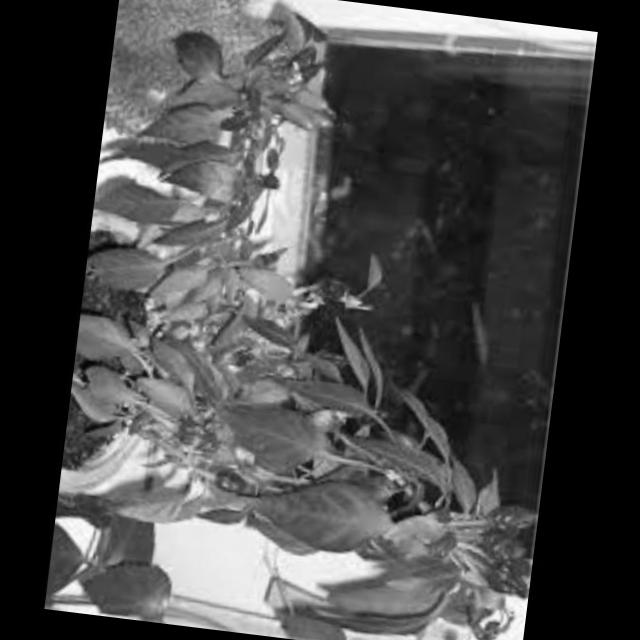hot pepper: (465, 492, 540, 613), (156, 371, 228, 462), (340, 522, 403, 574), (196, 454, 252, 502), (300, 270, 351, 314), (255, 236, 302, 282), (226, 336, 270, 382), (288, 38, 329, 86), (353, 401, 398, 443), (303, 344, 356, 377), (253, 168, 291, 200)
